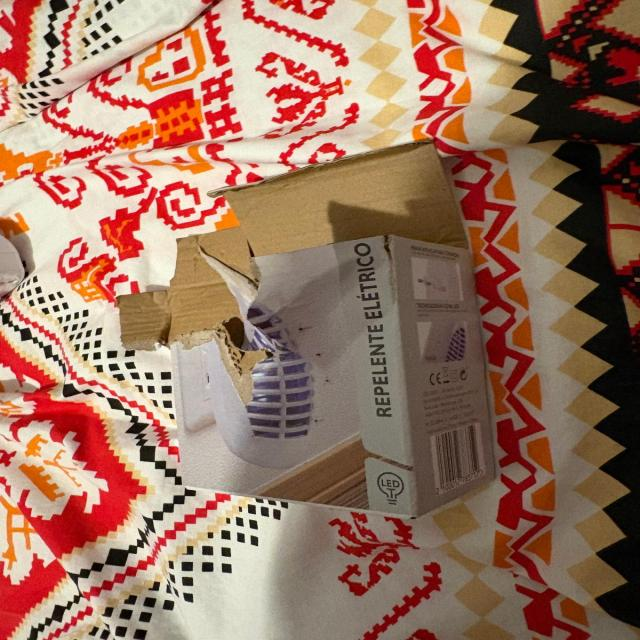damaged_package: (115, 137, 494, 520)
